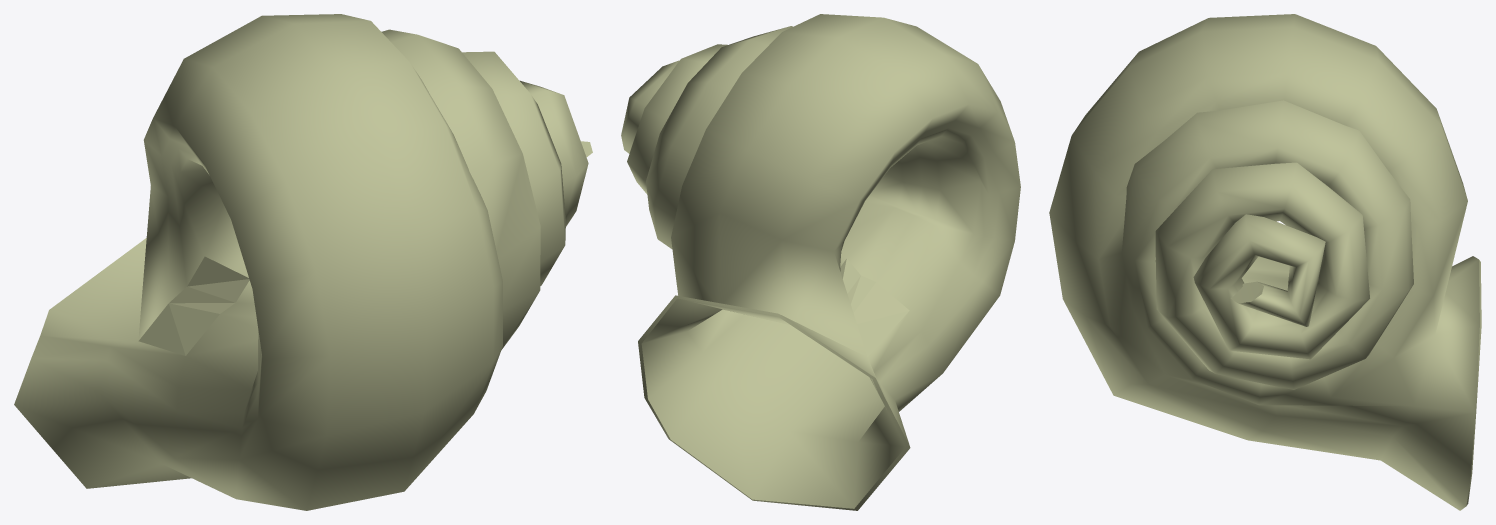
File: CoquillageVersion1.fbx
3 renders of one model, left to right at view 1: azimuth 30°, elevation 25°; view 2: azimuth 150°, elevation 25°; view 3: azimuth 270°, elevation 25°, orthographic. The views are drawn at different scales.
Parts seen in each view (by area): view 1: Cylinder001; view 2: Cylinder001; view 3: Cylinder001.
Part boxes in pixels (x1=…): Cylinder001: x1=14, y1=14, x2=592, y2=510; Cylinder001: x1=621, y1=14, x2=1020, y2=510; Cylinder001: x1=1049, y1=14, x2=1481, y2=510.
Size of the model in its own units: 11.83 by 12.87 by 10.59.
